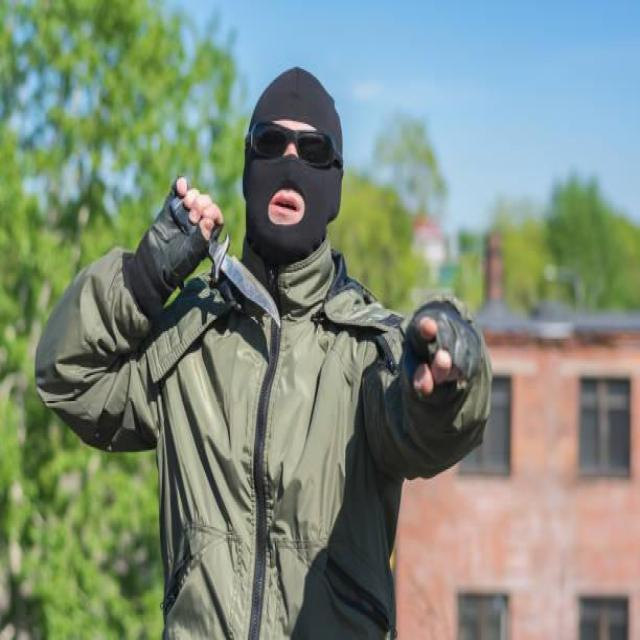faca: (157, 154, 286, 339)
